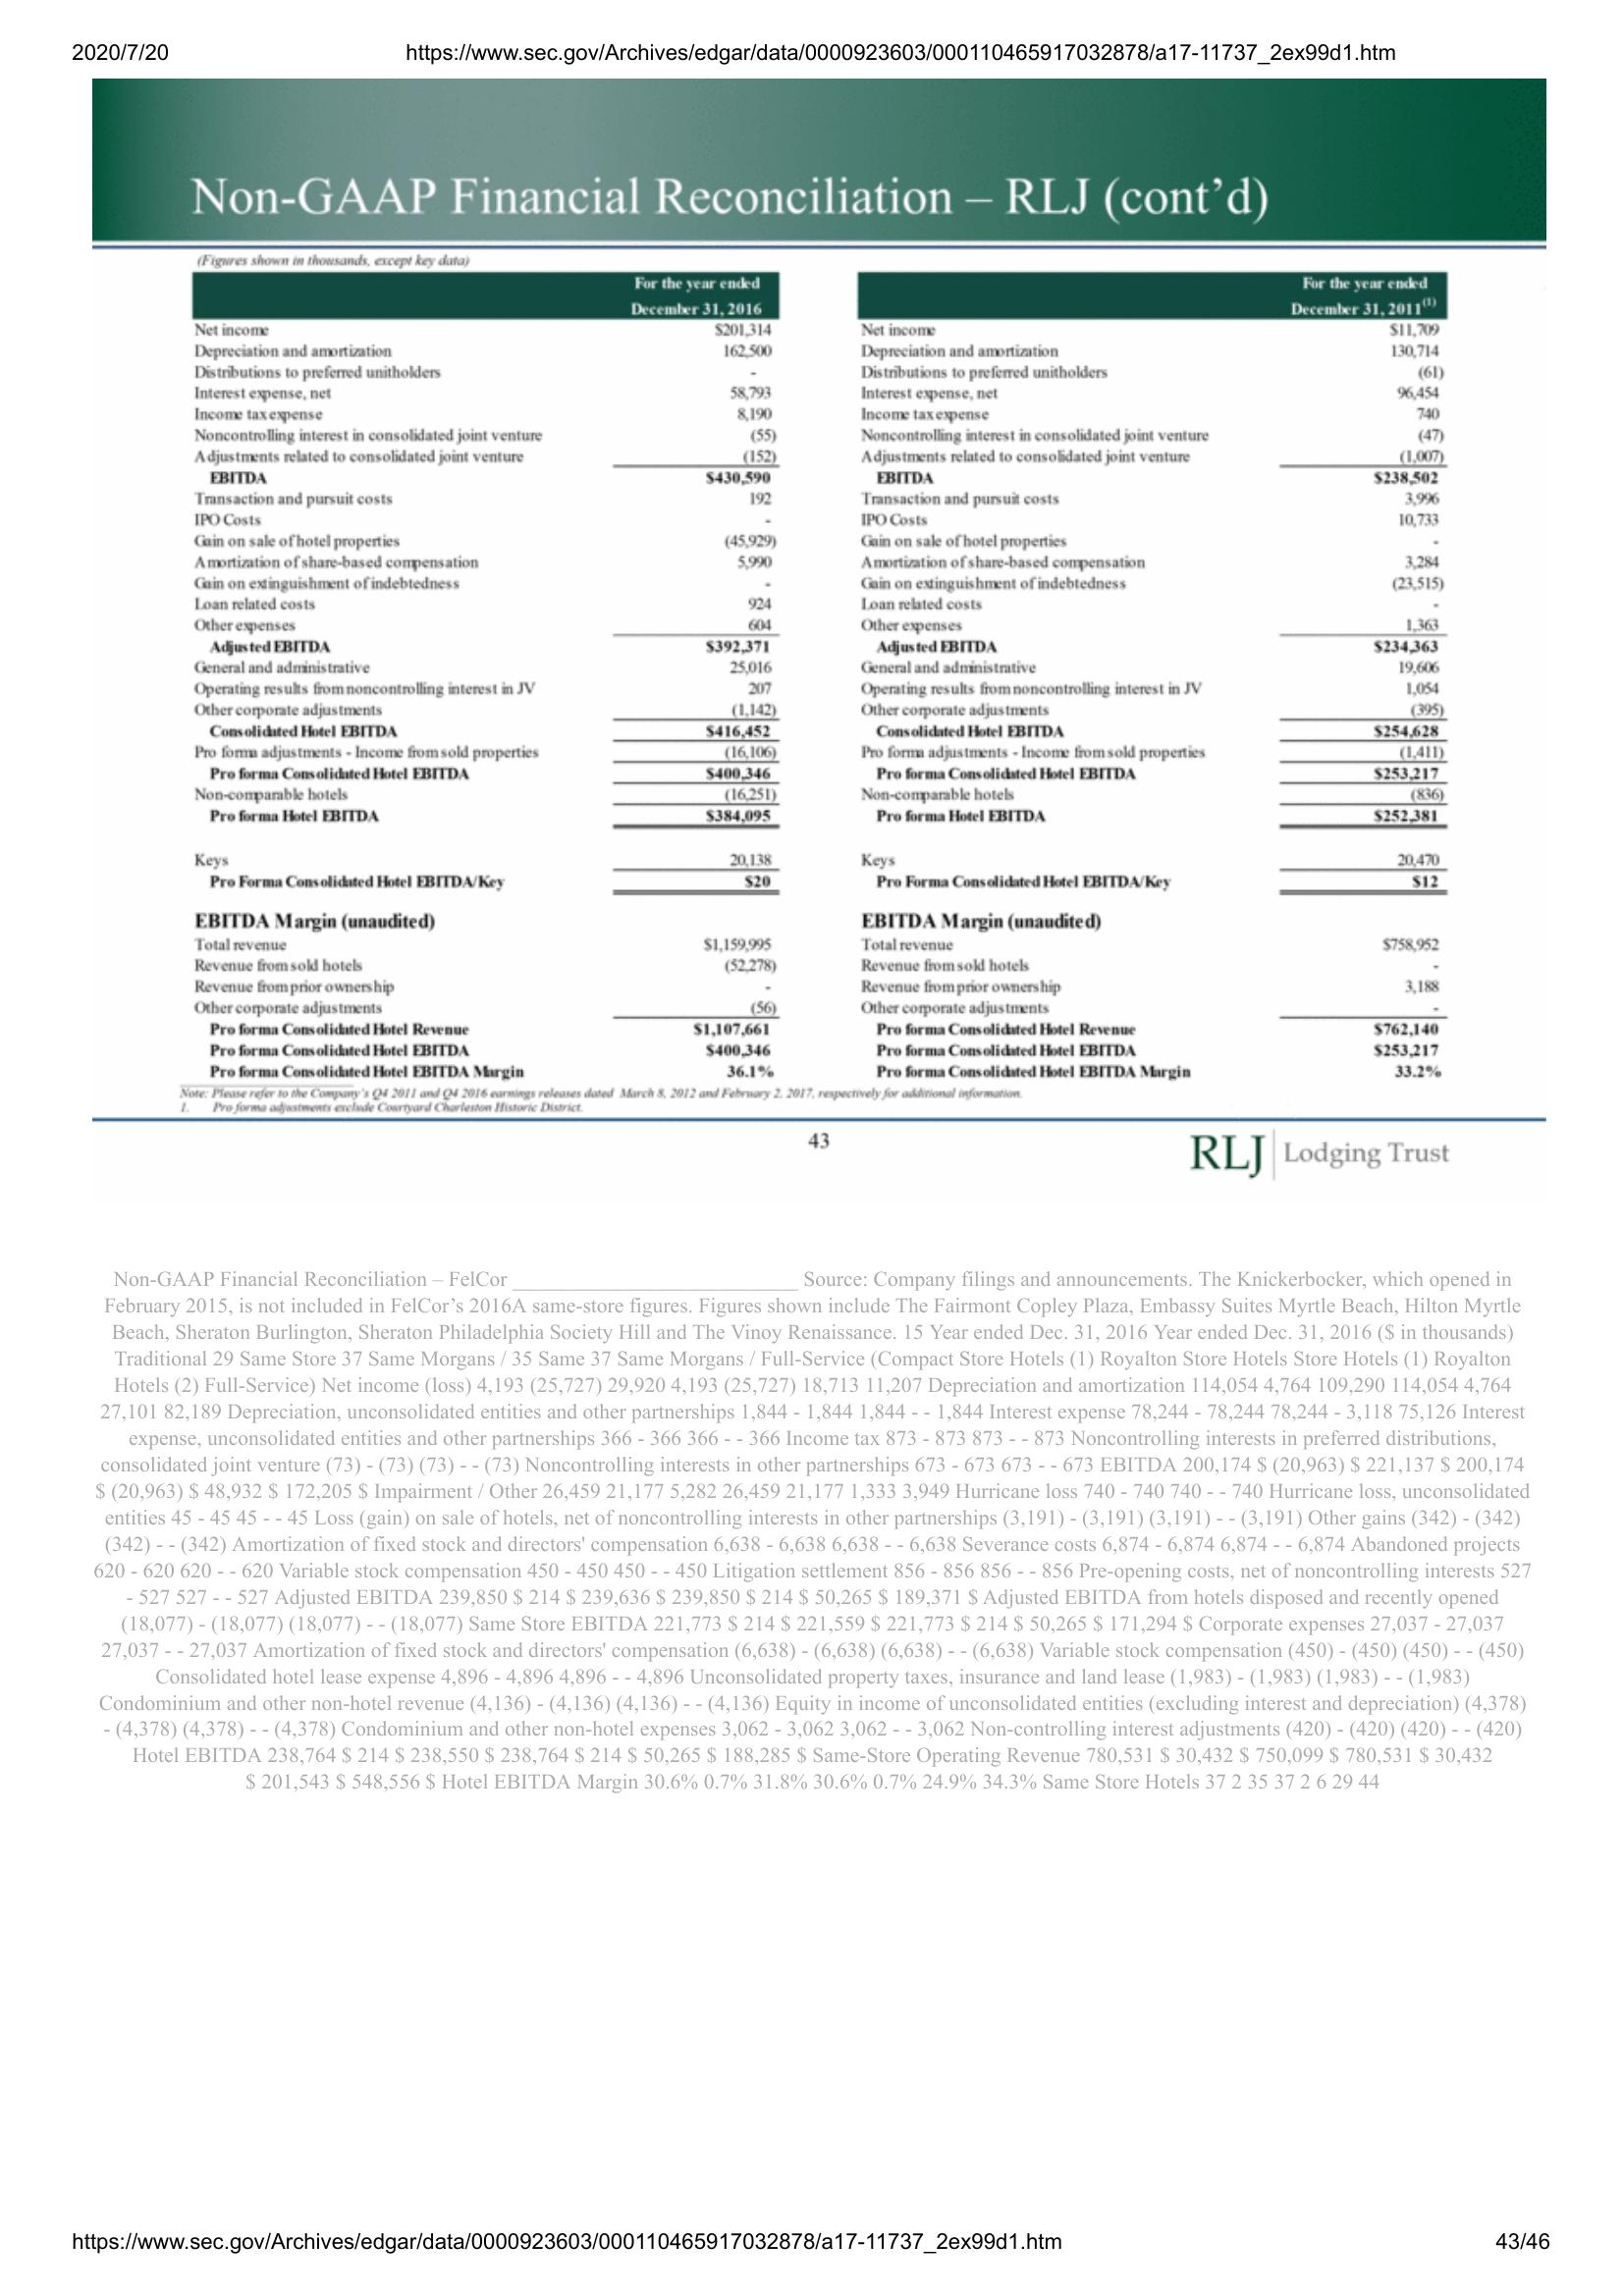table: (186, 251, 797, 1090), (843, 255, 1454, 1092)
